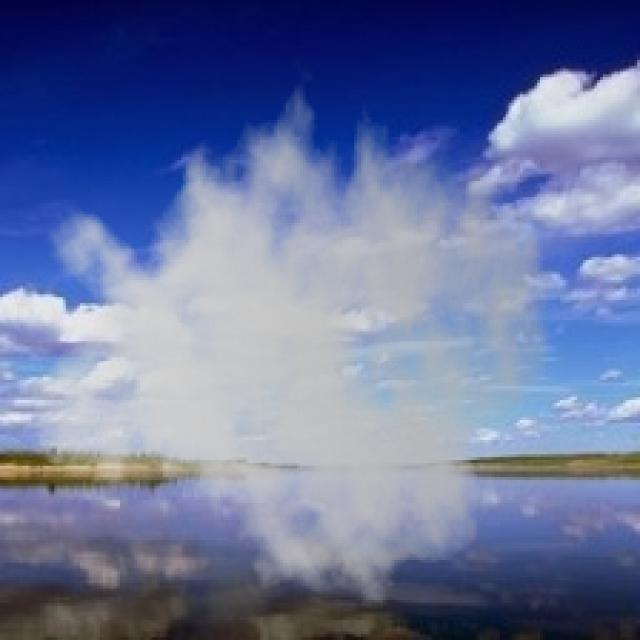smoke: (29, 60, 552, 623)
